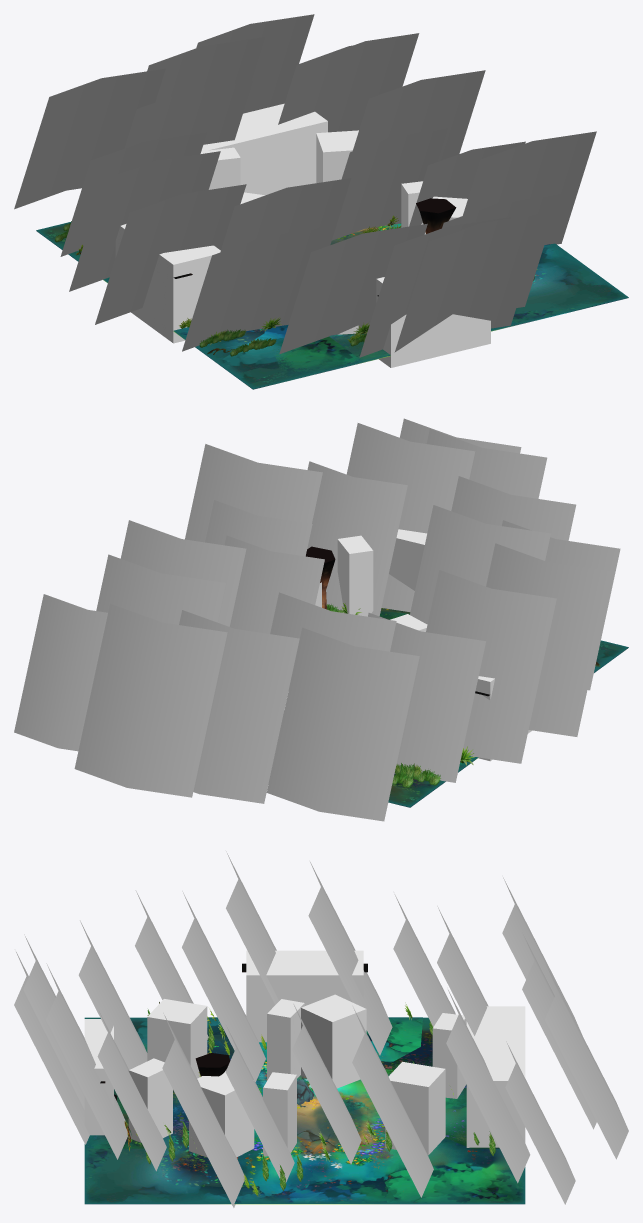
File: FieldDungeon_02_001_Road_T_004.fbx
3 views of the same model, one above another, from view 1: azimuth 30°, elevation 25°; view 2: azimuth 150°, elevation 25°; view 3: azimuth 270°, elevation 25° (orthographic).
Parts seen in each view (by area): view 1: FieldArea_02_001_tree_1, FieldArea_02_001_tree_2, FieldDungeon_02_001_Door_Back_001, DoorWay_NavMask (1) (×7), FieldDungeon_02_001_Door_Right_001, FieldArea_02_001_ground2 (×2), FieldDungeon_02_001_Door_Front_001, Cube_08, FieldArea_02_001_kusa, Cube_06, Dungeon_011_Object_010, FieldDungeon_02_001_Door_Right_001_shadow (+2 smaller); view 2: FieldArea_02_001_tree_1, FieldArea_02_001_tree_2, FieldDungeon_02_001_Door_Front_001, FieldDungeon_02_001_Door_Right_001, FieldDungeon_02_001_Door_Back_001, Cube_03, FieldArea_02_001_ground2 (×2), DoorWay_NavMask (1), FieldArea_02_001_kusa, Dungeon_011_Object_010; view 3: FieldArea_02_001_ground2 (×2), FieldArea_02_001_tree_1, DoorWay_NavMask (1) (×3), FieldArea_02_001_tree_2, FieldDungeon_02_001_Door_Back_001, FieldDungeon_02_001_Door_Right_001, FieldDungeon_02_001_Door_Front_001, Cube_02, Cube_08, Cube_01, Cube_07, Cube_05 (+8 smaller).
Part boxes in pixels (left/top/right/bottom): FieldArea_02_001_tree_1: left=60, top=70, right=596, bottom=354; FieldArea_02_001_tree_2: left=14, top=33, right=419, bottom=209; FieldDungeon_02_001_Door_Back_001: left=359, top=194, right=560, bottom=357; DoorWay_NavMask (1) (×7): left=115, top=103, right=490, bottom=367; FieldDungeon_02_001_Door_Right_001: left=69, top=151, right=246, bottom=324; FieldArea_02_001_ground2 (×2): left=36, top=222, right=628, bottom=388; FieldDungeon_02_001_Door_Front_001: left=147, top=14, right=314, bottom=113; Cube_08: left=316, top=130, right=358, bottom=183; FieldArea_02_001_kusa: left=55, top=215, right=534, bottom=356; Cube_06: left=200, top=147, right=240, bottom=189; Dungeon_011_Object_010: left=416, top=198, right=456, bottom=233; FieldDungeon_02_001_Door_Right_001_shadow: left=103, top=277, right=264, bottom=362; FieldArea_02_001_tree_1: left=120, top=444, right=620, bottom=782; FieldArea_02_001_tree_2: left=14, top=554, right=419, bottom=821; FieldDungeon_02_001_Door_Front_001: left=74, top=603, right=299, bottom=803; FieldDungeon_02_001_Door_Right_001: left=426, top=543, right=612, bottom=763; FieldDungeon_02_001_Door_Back_001: left=346, top=418, right=547, bottom=611; Cube_03: left=337, top=535, right=373, bottom=616; FieldArea_02_001_ground2 (×2): left=379, top=611, right=628, bottom=807; DoorWay_NavMask (1): left=389, top=529, right=426, bottom=590; FieldArea_02_001_kusa: left=326, top=603, right=600, bottom=787; Dungeon_011_Object_010: left=306, top=546, right=335, bottom=609; FieldArea_02_001_ground2 (×2): left=84, top=1017, right=525, bottom=1203; FieldArea_02_001_tree_1: left=78, top=890, right=455, bottom=1207; DoorWay_NavMask (1) (×3): left=84, top=950, right=525, bottom=1147; FieldArea_02_001_tree_2: left=437, top=877, right=581, bottom=1204; FieldDungeon_02_001_Door_Back_001: left=14, top=934, right=127, bottom=1159; FieldDungeon_02_001_Door_Right_001: left=226, top=851, right=392, bottom=1055; FieldDungeon_02_001_Door_Front_001: left=522, top=934, right=628, bottom=1159; Cube_02: left=301, top=994, right=366, bottom=1088; Cube_08: left=385, top=1061, right=445, bottom=1155; Cube_01: left=147, top=999, right=207, bottom=1078; Cube_07: left=189, top=1070, right=254, bottom=1157; Cube_05: left=267, top=999, right=304, bottom=1080.
Size of what is drawn, in the model's own units: 17.38 by 5.86 by 20.94.
